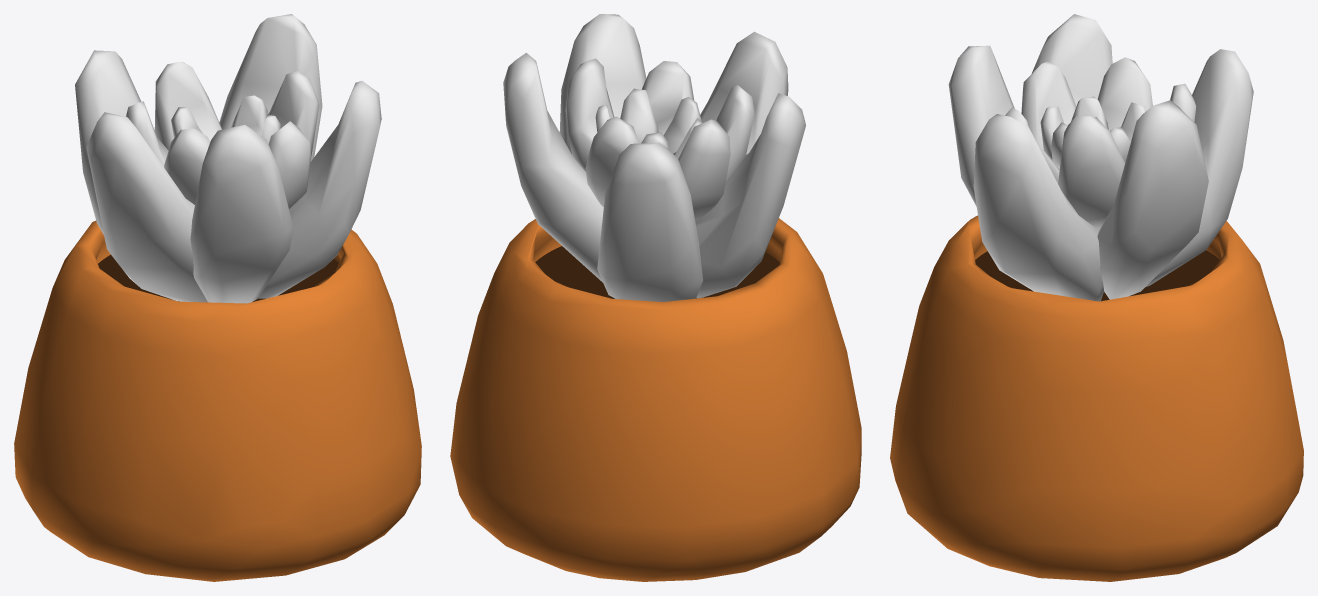
The model's file is Cactus.fbx.
3 renders of one model, left to right at view 1: azimuth 30°, elevation 25°; view 2: azimuth 150°, elevation 25°; view 3: azimuth 270°, elevation 25°, orthographic.
Visible parts, largest first — view 1: Cactus; view 2: Cactus; view 3: Cactus.
Part boxes in pixels (<box>): Cactus: <box>14,14,421,581</box>; Cactus: <box>450,14,861,581</box>; Cactus: <box>890,14,1303,581</box>.
Bounding box in the file's own units: 316 × 398 × 316.
